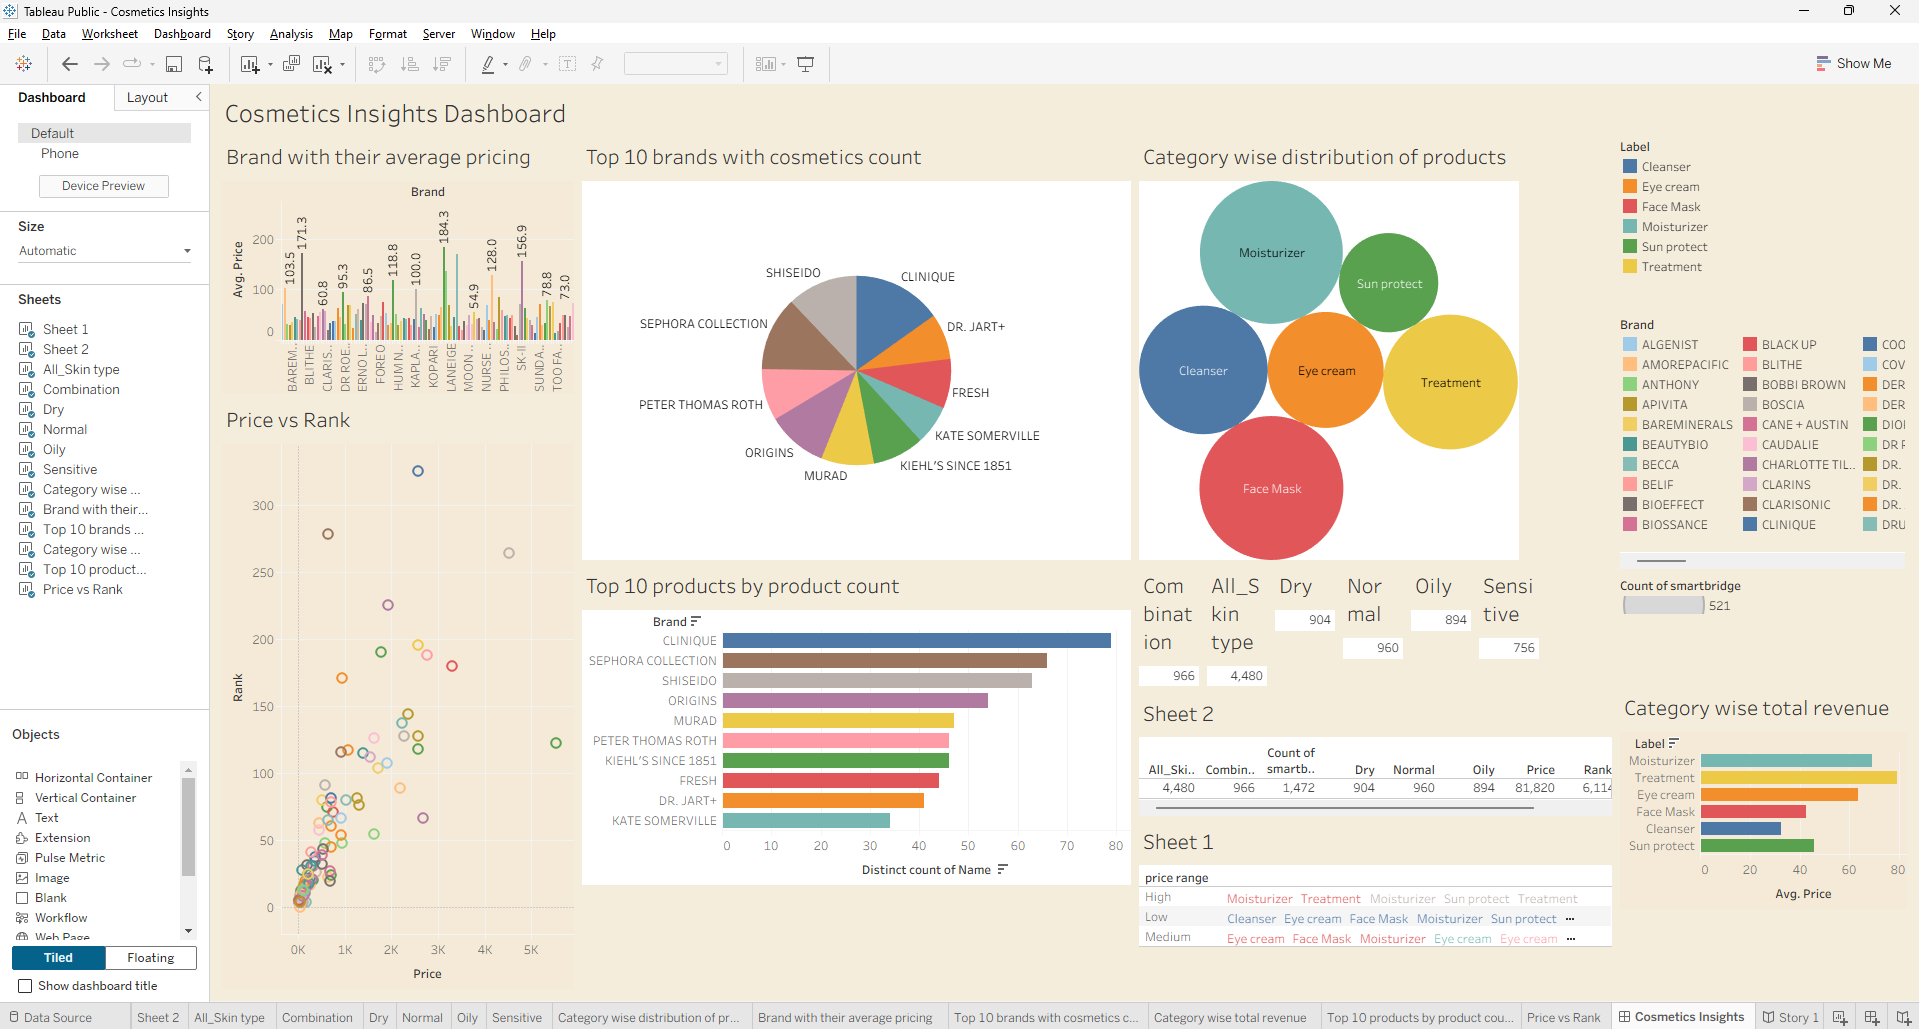

Layout of this report page (visuals, bound fields, positions):
{"tool":"tableau","page":{"name":"Cosmetics Insights ","canvas":[1000,1000],"units":"permille","ordinal":0},"visuals":[{"type":"title","box":[4.7,8.7,990.6,45.8]},{"type":"worksheet","title":"Brand with their average pricing","mark":"Automatic","rows":["Price"],"cols":["Brand"],"box":[4.7,54.5,210.5,286.9]},{"type":"worksheet","title":"Top 10 brands with cosmetics count","mark":"Pie","box":[215.2,54.5,326,468.4]},{"type":"worksheet","title":"Category wise distribution of products","mark":"Circle","box":[541.2,54.5,281.4,468.4]},{"type":"legend","title":"Category wise distribution of products","param":"[federated.18ea4ax1wbjffg15o7h6c0bbwzbj].[none:Label:nk]","box":[822.7,54.5,172.6,194.1]},{"type":"legend","title":"Brand with their average pricing","param":"[federated.18ea4ax1wbjffg15o7h6c0bbwzbj].[none:Brand:nk]","box":[822.7,248.6,172.6,284.6]},{"type":"worksheet","title":"Price vs Rank","mark":"Automatic","rows":["Rank"],"cols":["Price"],"box":[4.7,341.5,210.5,649.8]},{"type":"worksheet","title":"Top 10 products by product count","mark":"Automatic","rows":["Brand"],"cols":["Name"],"box":[215.2,522.9,326,355.5]},{"type":"worksheet","title":"Combination","mark":"Automatic","box":[541.2,522.9,39.8,138.5]},{"type":"worksheet","title":"All_Skin type","mark":"Automatic","box":[581,522.9,39.8,138.5]},{"type":"worksheet","title":"Dry","mark":"Automatic","box":[620.8,522.9,39.8,138.5]},{"type":"worksheet","title":"Normal","mark":"Automatic","box":[660.6,522.9,39.8,138.5]},{"type":"worksheet","title":"Oily","mark":"Automatic","box":[700.4,522.9,39.8,138.5]},{"type":"worksheet","title":"Sensitive","mark":"Automatic","box":[740.2,522.9,39.8,138.5]},{"type":"legend","title":"Top 10 brands with cosmetics count","param":"[federated.18ea4ax1wbjffg15o7h6c0bbwzbj].[__tableau_internal_object_id__].[cnt:s","box":[822.7,533.2,172.6,122.1]},{"type":"worksheet","title":"Category wise total revenue","mark":"Automatic","rows":["Label"],"cols":["Price"],"box":[822.7,655.4,172.6,248.6]},{"type":"worksheet","title":"Sheet 2","mark":"Automatic","box":[541.2,661.4,281.4,140.7]},{"type":"worksheet","title":"Sheet 1","mark":"Automatic","rows":["Calculation_0570941413634048"],"box":[541.2,802.1,281.4,143.9]}]}

Visuals, with their boxes on the dashboard's canvas, which has no fixed pixel size, in thousandths of its width and height (x1, y1, x2, y2). These are canvas units, not pixel positions in the 1919x1029 screenshot, which may show the page scaled, cropped or inside an application window:
title: [left=5, top=9, right=995, bottom=54]
"Brand with their average pricing" worksheet: [left=5, top=54, right=215, bottom=341]
"Top 10 brands with cosmetics count" worksheet (Pie marks): [left=215, top=54, right=541, bottom=523]
"Category wise distribution of products" worksheet (Circle marks): [left=541, top=54, right=823, bottom=523]
"Category wise distribution of products" legend: [left=823, top=54, right=995, bottom=249]
"Brand with their average pricing" legend: [left=823, top=249, right=995, bottom=533]
"Price vs Rank" worksheet: [left=5, top=342, right=215, bottom=991]
"Top 10 products by product count" worksheet: [left=215, top=523, right=541, bottom=878]
"Combination" worksheet: [left=541, top=523, right=581, bottom=661]
"All_Skin type" worksheet: [left=581, top=523, right=621, bottom=661]
"Dry" worksheet: [left=621, top=523, right=661, bottom=661]
"Normal" worksheet: [left=661, top=523, right=700, bottom=661]
"Oily" worksheet: [left=700, top=523, right=740, bottom=661]
"Sensitive" worksheet: [left=740, top=523, right=780, bottom=661]
"Top 10 brands with cosmetics count" legend: [left=823, top=533, right=995, bottom=655]
"Category wise total revenue" worksheet: [left=823, top=655, right=995, bottom=904]
"Sheet 2" worksheet: [left=541, top=661, right=823, bottom=802]
"Sheet 1" worksheet: [left=541, top=802, right=823, bottom=946]
